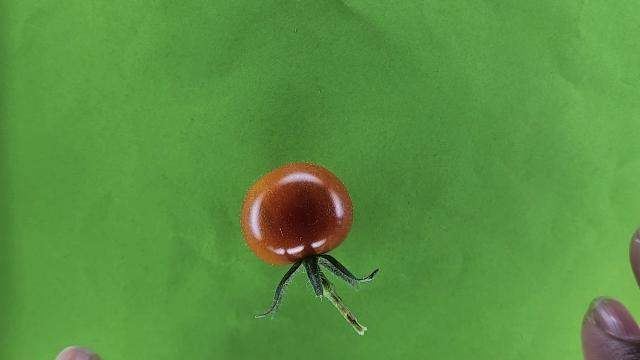Fully Grown: (239, 162, 355, 266)
